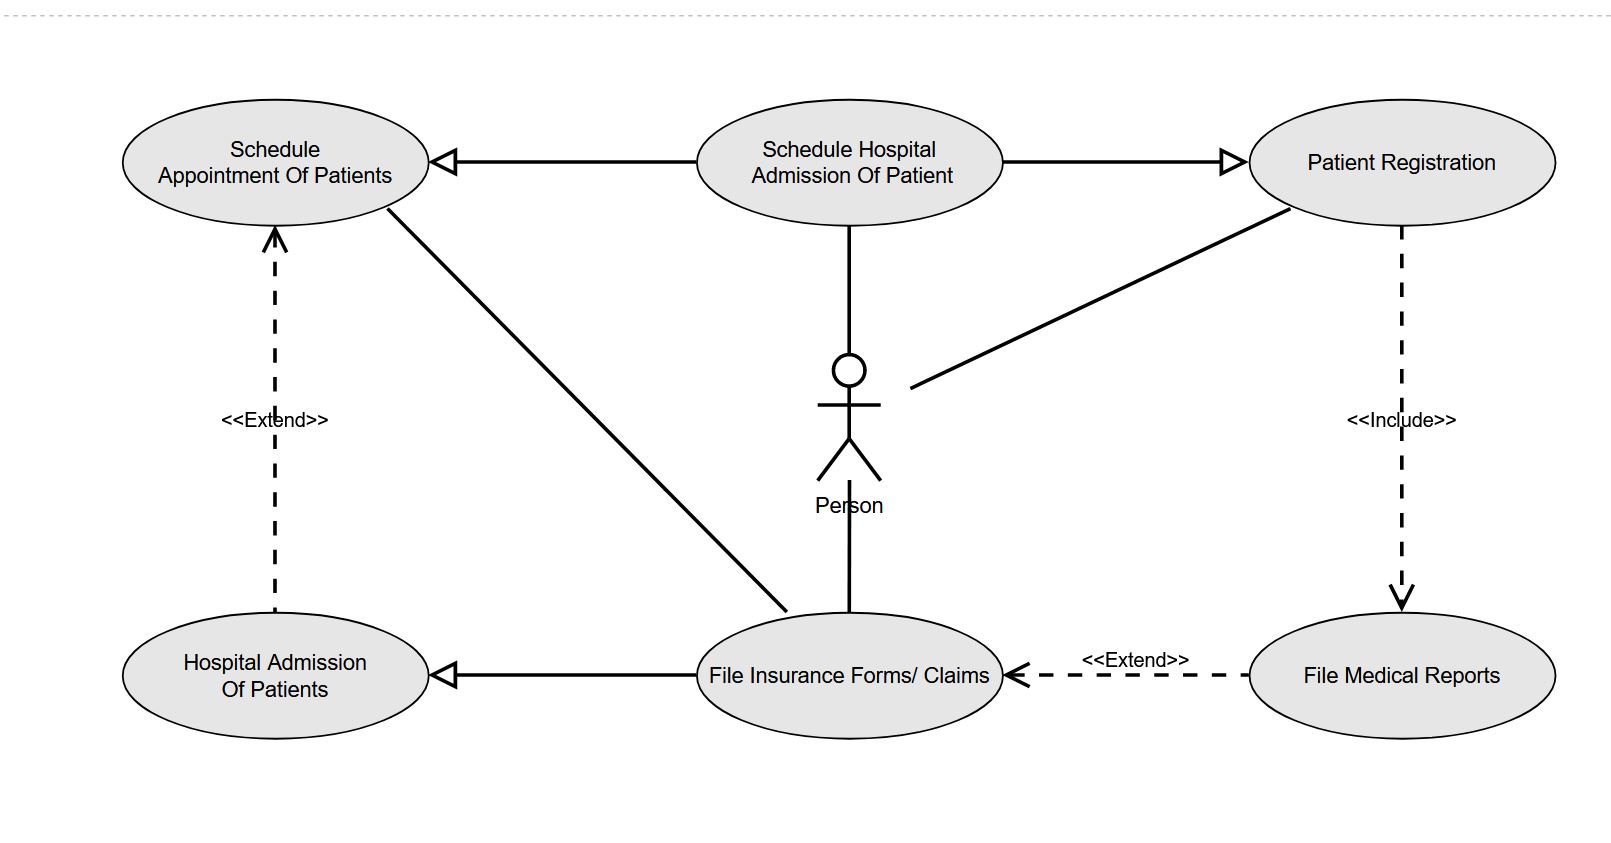actor: (805, 348, 889, 484)
association: (384, 207, 786, 616), (905, 205, 1291, 393), (1383, 228, 1419, 610), (260, 227, 291, 612), (428, 147, 691, 180), (1008, 146, 1250, 180), (427, 659, 696, 688), (1002, 662, 1244, 688), (832, 481, 869, 611), (835, 229, 865, 352)
text: (152, 131, 402, 199), (169, 642, 377, 710), (748, 131, 963, 194), (1291, 145, 1509, 187), (703, 660, 994, 691), (1290, 656, 1512, 693), (1342, 402, 1465, 435), (208, 405, 330, 437), (1081, 645, 1188, 672), (809, 493, 898, 520)
use_case: (120, 607, 432, 744), (1247, 610, 1557, 744), (694, 610, 1006, 741), (121, 98, 430, 230), (693, 99, 1004, 229), (1247, 99, 1556, 229)
